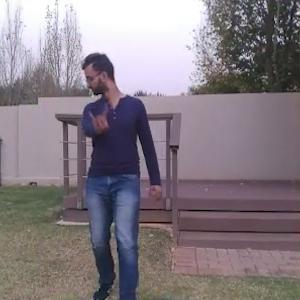takeoff-hand: (85, 98, 111, 134)
